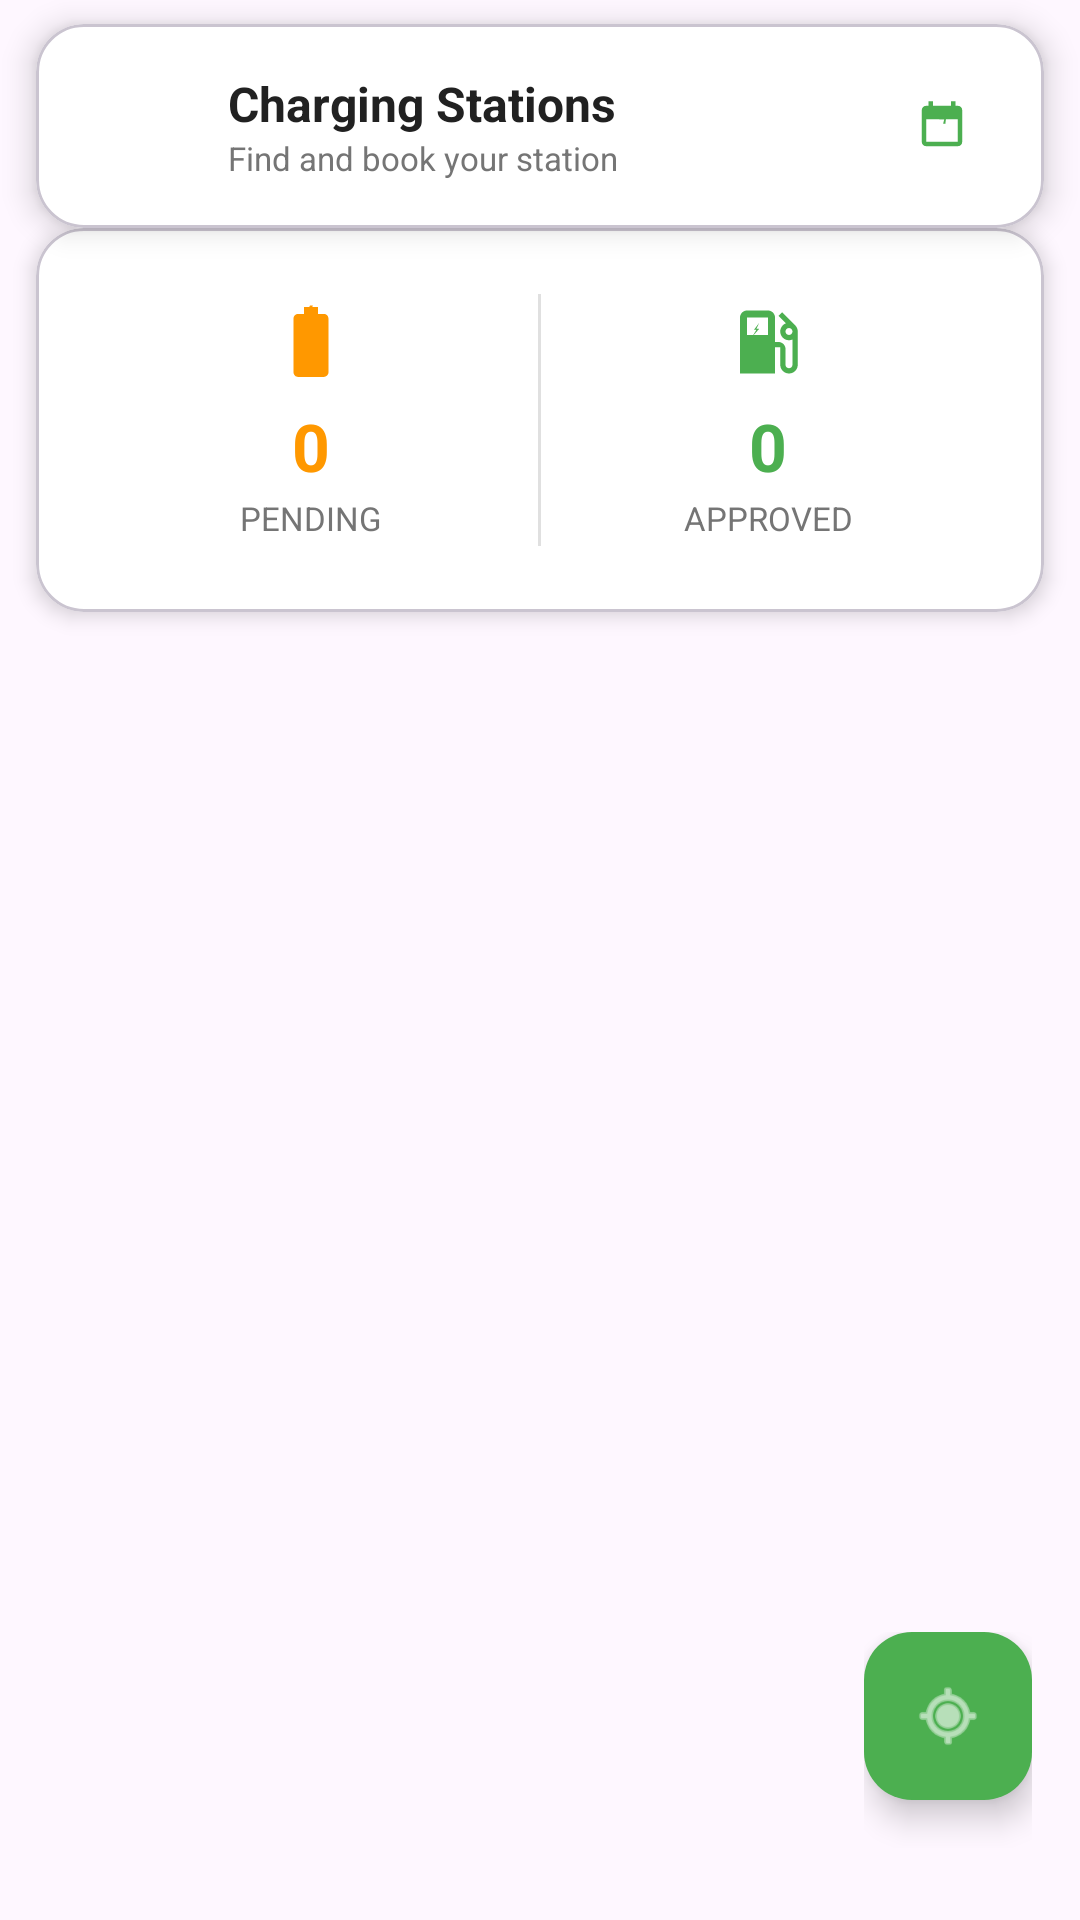

Point at icon controls on the screen. Image size 1080×1920, points as point (x, y).
Current location: point (948, 1716)
View Bookings: point (942, 124)
